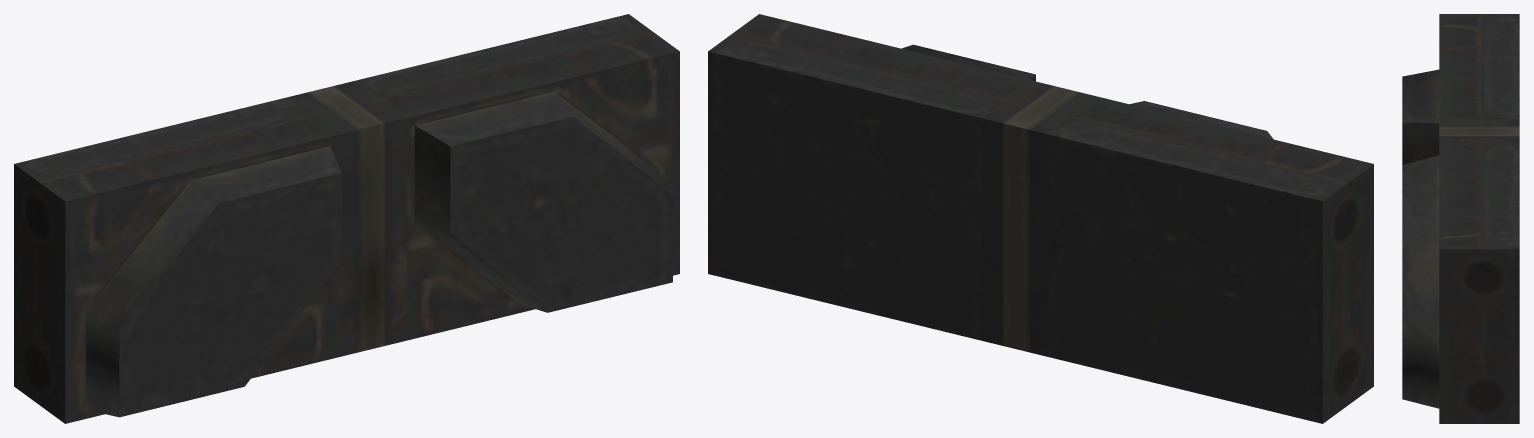
The picture shows the model from 3 angles, left to right: view 1: azimuth 30°, elevation 25°; view 2: azimuth 150°, elevation 25°; view 3: azimuth 270°, elevation 25°; orthographic projection. The views are drawn at different scales.
Parts seen in each view (by area): view 1: set_0_group_0; view 2: set_0_group_0; view 3: set_0_group_0.
Part boxes in pixels (x1,y1,x2,y2): set_0_group_0: (14, 14, 679, 423); set_0_group_0: (708, 14, 1373, 423); set_0_group_0: (1402, 14, 1519, 423).
Size of the model in its own units: 0.4504 by 0.1558 by 0.0949.
1 material, 1 textured.
